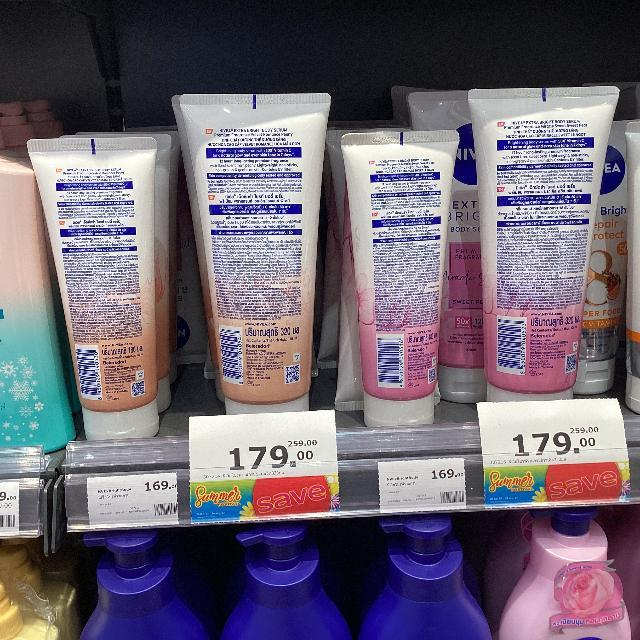Squeeze Tube: (454, 66, 640, 455), (11, 114, 213, 472), (153, 79, 346, 431), (333, 98, 460, 449)
